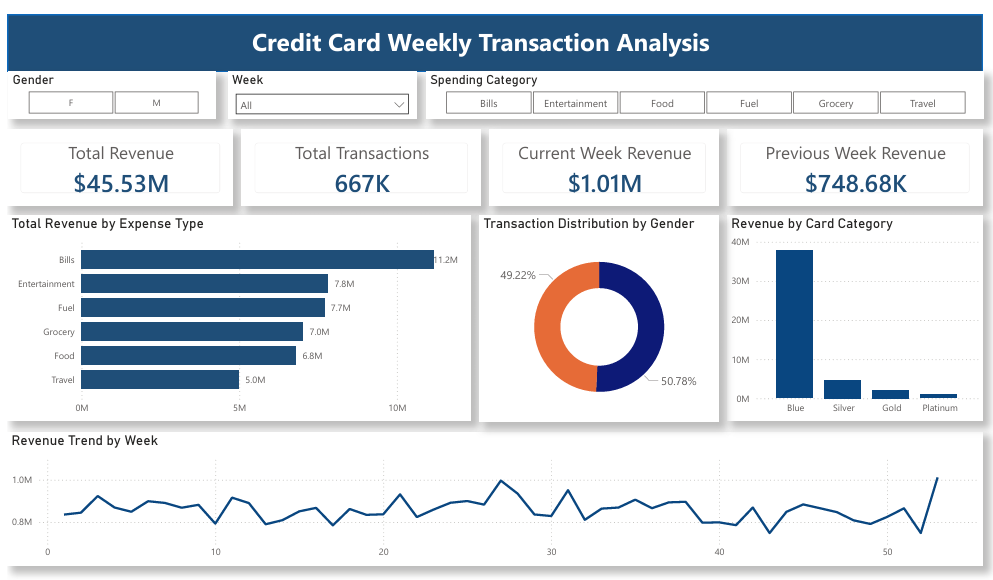

What the dashboard file says about the page in this screenshot:
{"tool":"powerbi","page":{"name":"Credit Card Weekly Transaction Analysis","canvas":[1280,720],"ordinal":1},"visuals":[{"type":"shape","box":[0,0,1280.5,74.8],"z":0},{"type":"textbox","box":[196.9,8.1,849.4,58.6],"z":1000},{"type":"slicer","title":"Gender","fields":{"Values":["customer.Gender"]},"box":[1.6,74.8,273.4,61.8],"z":2000},{"type":"slicer","title":"Week","fields":{"Values":["CreditCard.Week_Number"]},"box":[289.6,74.8,247.3,61.8],"z":3000},{"type":"slicer","title":"Spending Category","fields":{"Values":["CreditCard.Expense_Type"]},"box":[550,74.8,732.2,61.8],"z":4000},{"type":"cardVisual","fields":{"Data":["CreditCard.Total Revenue"]},"box":[0,151.3,296.1,100.9],"z":5000},{"type":"cardVisual","fields":{"Data":["CreditCard.Previous Week Revenue"]},"box":[944.8,151.3,335.2,100.9],"z":6000},{"type":"cardVisual","fields":{"Data":["CreditCard.Total Transactions"]},"box":[307.3,151.3,314,100.9],"z":7000},{"type":"cardVisual","fields":{"Data":["CreditCard.Current Week Revenue"]},"box":[632.6,151.3,301,100.9],"z":8000},{"type":"clusteredBarChart","title":"Total Revenue by Expense Type","fields":{"Y":["CreditCard.Total Revenue"],"Category":["CreditCard.Expense_Type"]},"box":[0,263.6,608.5,270.1],"z":8001},{"type":"lineChart","title":"Revenue Trend by Week","fields":{"Category":["CreditCard.Week_Number"],"Y":["CreditCard.Total Revenue"]},"box":[0,548.3,1280.5,175.7],"z":8002},{"type":"clusteredColumnChart","title":"Revenue by Card Category","fields":{"Category":["CreditCard.Card_Category"],"Y":["CreditCard.Total Revenue"]},"box":[945,264,335,270],"z":8003},{"type":"donutChart","title":"Transaction Distribution by Gender","fields":{"Category":["customer.Gender"],"Y":["CreditCard.Total Transactions"]},"box":[619.9,263.6,314,271.7],"z":8004}]}

Visuals, with their boxes on the page's 1280x720 design canvas (x1, y1, x2, y2). These are canvas units, not pixel positions in the 993x580 screenshot, which may show the page scaled, cropped or inside an application window:
shape: bbox=[0, 0, 1280, 75]
textbox: bbox=[197, 8, 1046, 67]
"Gender" slicer: bbox=[2, 75, 275, 137]
"Week" slicer: bbox=[290, 75, 537, 137]
"Spending Category" slicer: bbox=[550, 75, 1282, 137]
cardVisual - CreditCard.Total Revenue: bbox=[0, 151, 296, 252]
cardVisual - CreditCard.Previous Week Revenue: bbox=[945, 151, 1280, 252]
cardVisual - CreditCard.Total Transactions: bbox=[307, 151, 621, 252]
cardVisual - CreditCard.Current Week Revenue: bbox=[633, 151, 934, 252]
"Total Revenue by Expense Type" clusteredBarChart: bbox=[0, 264, 608, 534]
"Revenue Trend by Week" lineChart: bbox=[0, 548, 1280, 724]
"Revenue by Card Category" clusteredColumnChart: bbox=[945, 264, 1280, 534]
"Transaction Distribution by Gender" donutChart: bbox=[620, 264, 934, 535]
